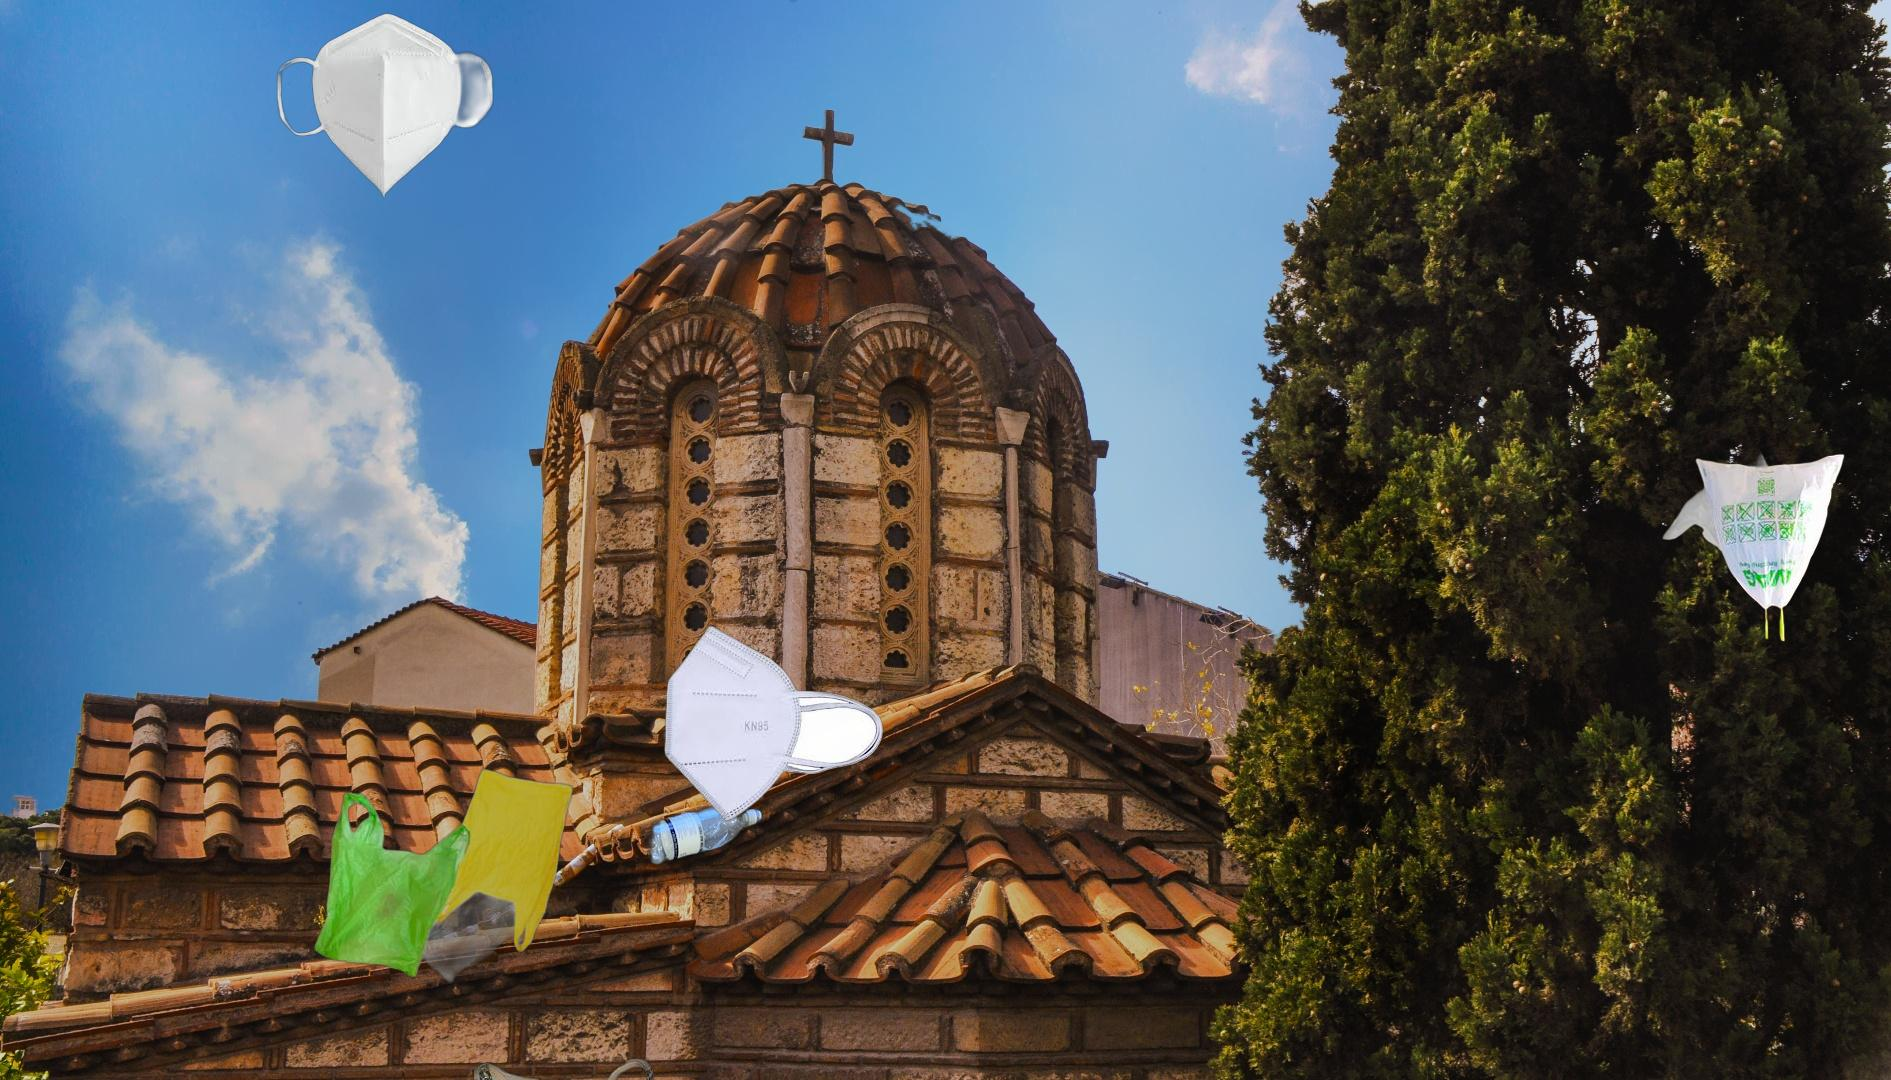plastic-bag: (310, 765, 577, 989), (1660, 448, 1848, 645)
plastic-bottles: (640, 802, 766, 870)
shoes: (474, 1055, 657, 1080)
trash: (661, 623, 886, 824), (273, 10, 496, 201)
